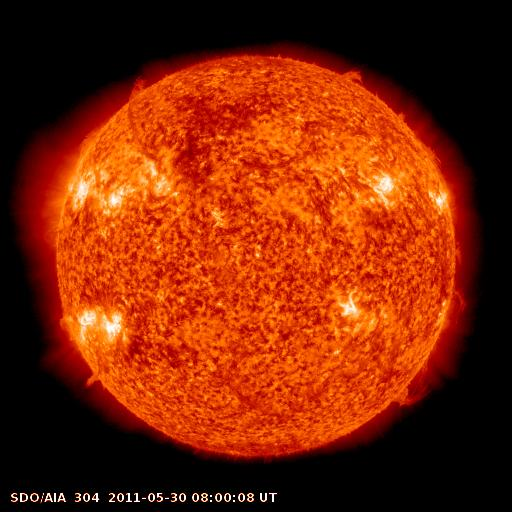prominence: (390, 281, 472, 415), (118, 67, 160, 110), (327, 60, 375, 95), (77, 118, 112, 158), (72, 365, 108, 397), (445, 233, 470, 268)
